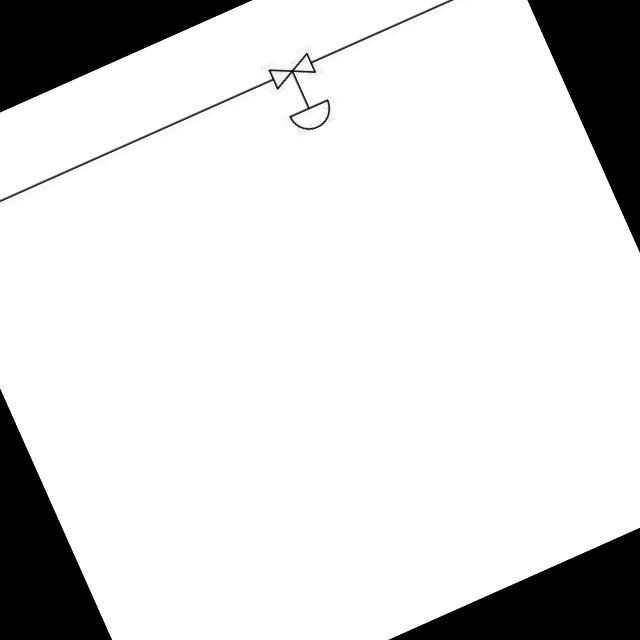FC: (260, 47, 344, 144)
